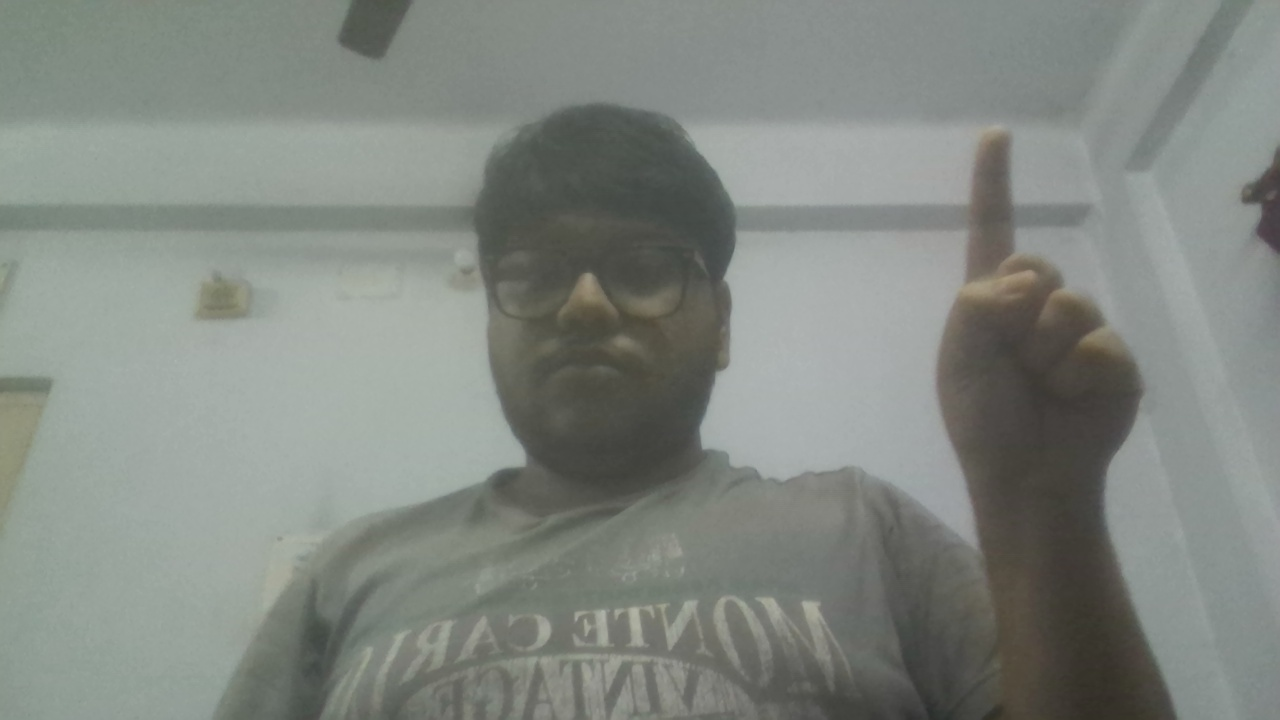Gesture1: (924, 117, 1152, 522)
